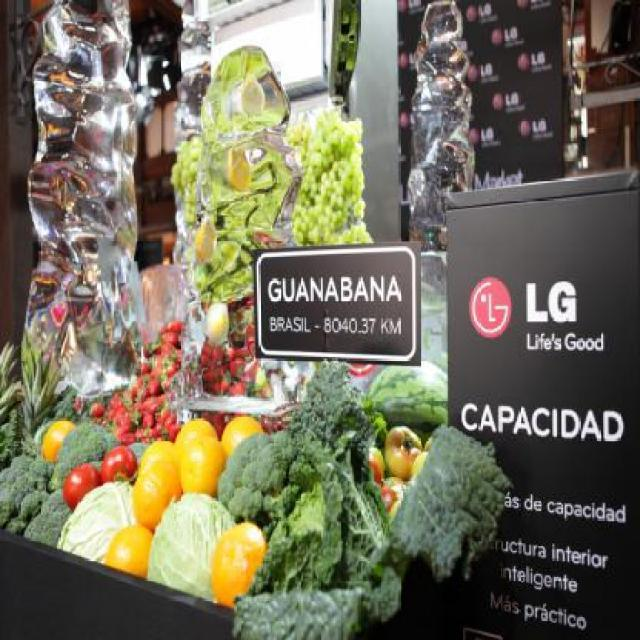Broccoli: (0, 423, 151, 548), (218, 433, 296, 519)
